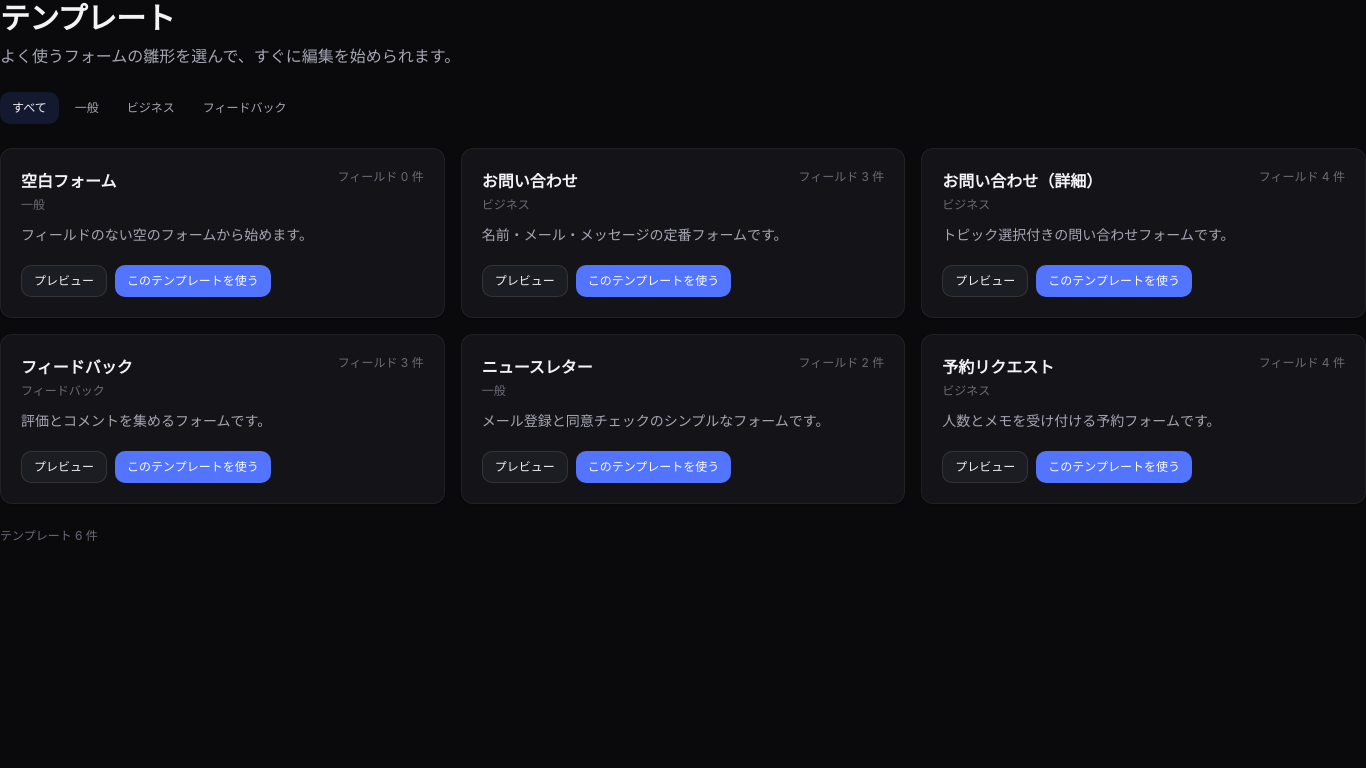
Test: TemplateGallery › opens a template preview dialog
Expected: the element "お問い合わせ" is shown, x1=461 y1=148 x2=905 y2=318
Click the button "プレビュー" below "名前・メール・メッセージの定番フォームです。".
click(525, 281)  # box x1=482 y1=265 x2=568 y2=297
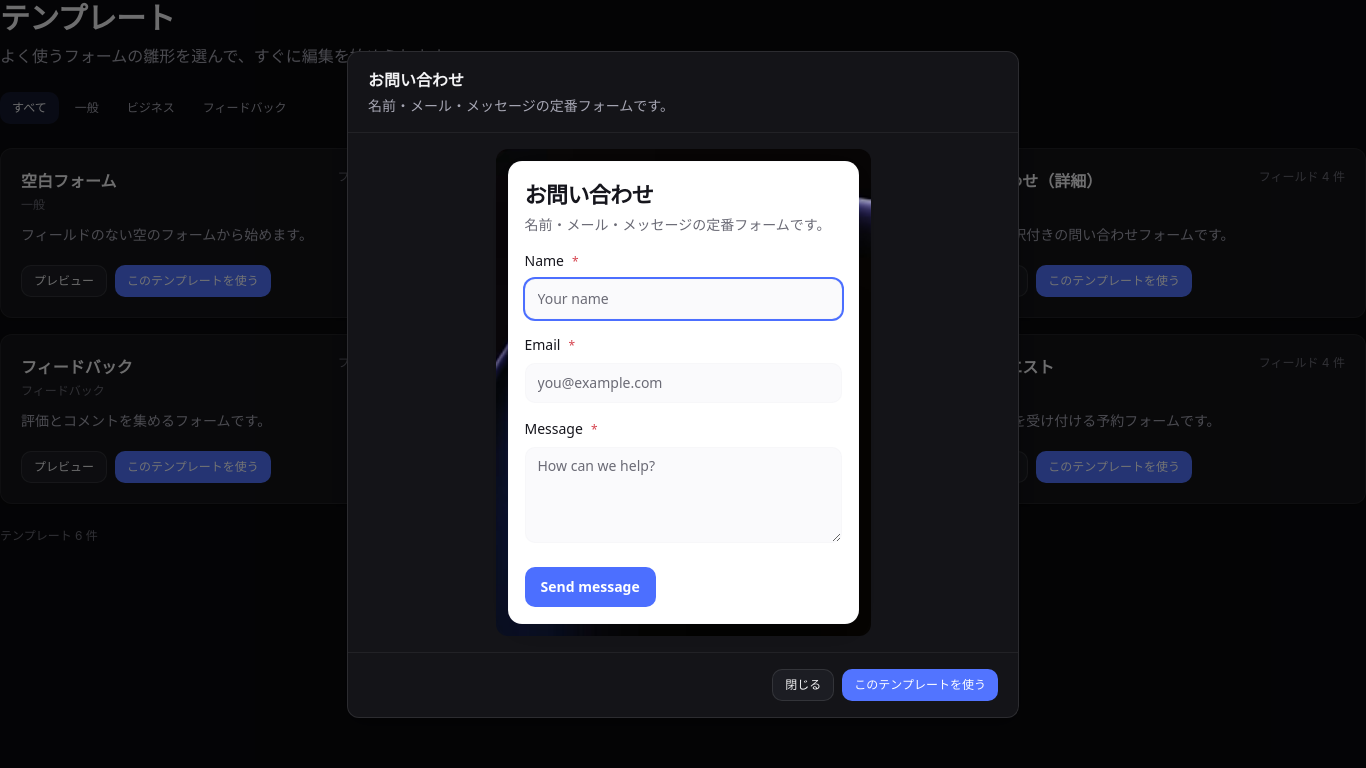
Expected: the dialog "お問い合わせ" is shown, x1=347 y1=50 x2=1019 y2=718
